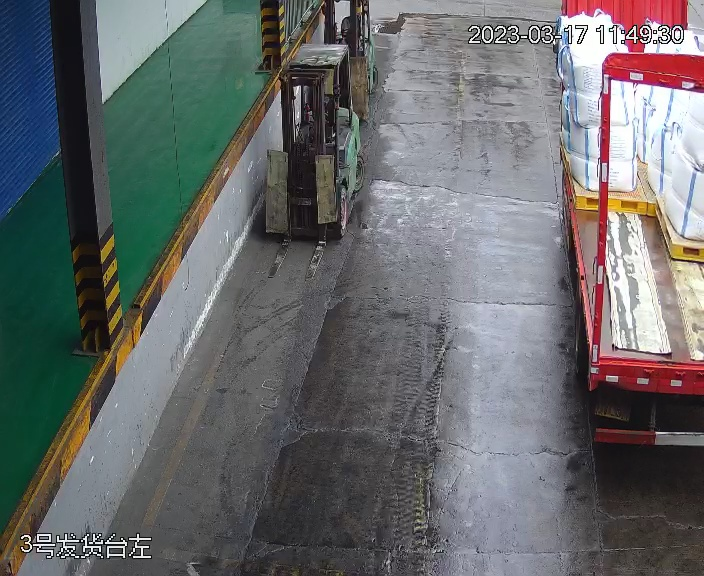truck: (544, 23, 704, 456)
